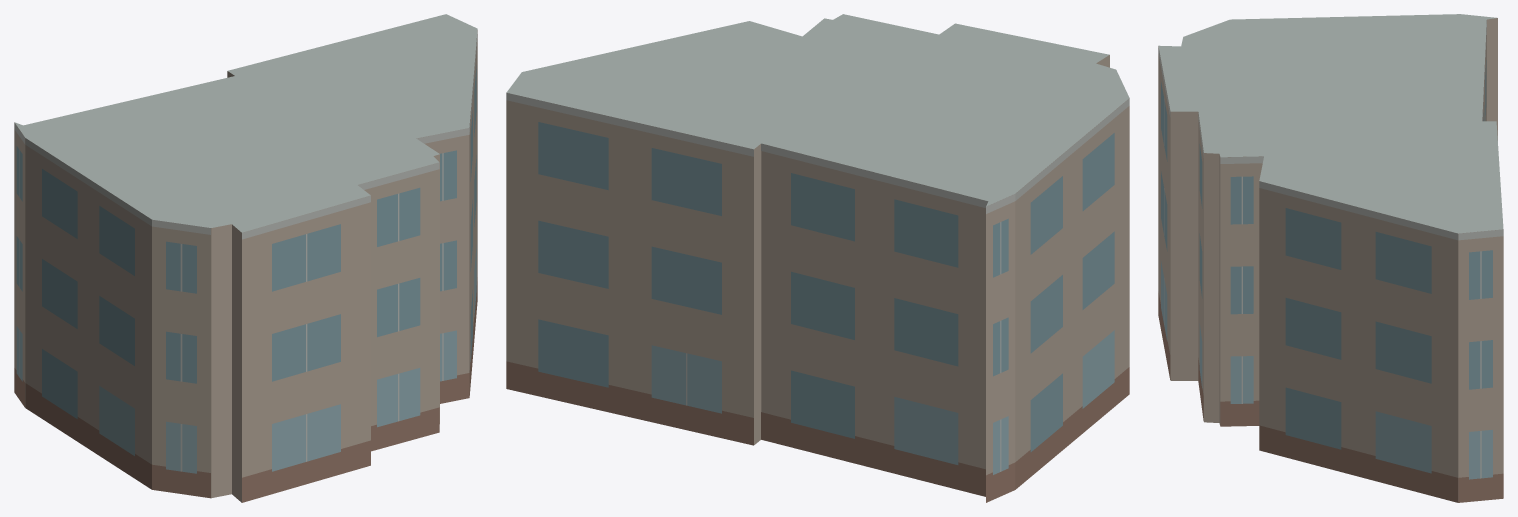
File: survey-upis-32752340.glb
3 renders of one model, left to right at view 1: azimuth 30°, elevation 25°; view 2: azimuth 150°, elevation 25°; view 3: azimuth 270°, elevation 25°, orthographic. The views are drawn at different scales.
Visible parts, largest first — view 1: survey-upis-32752340.tmp; view 2: survey-upis-32752340.tmp; view 3: survey-upis-32752340.tmp.
Part boxes in pixels (x1,y1,x2,y2): survey-upis-32752340.tmp: [14, 14, 477, 502]; survey-upis-32752340.tmp: [506, 14, 1129, 502]; survey-upis-32752340.tmp: [1158, 14, 1503, 502].
Bounding box in the file's own units: 16.79 × 9.6 × 11.16.
